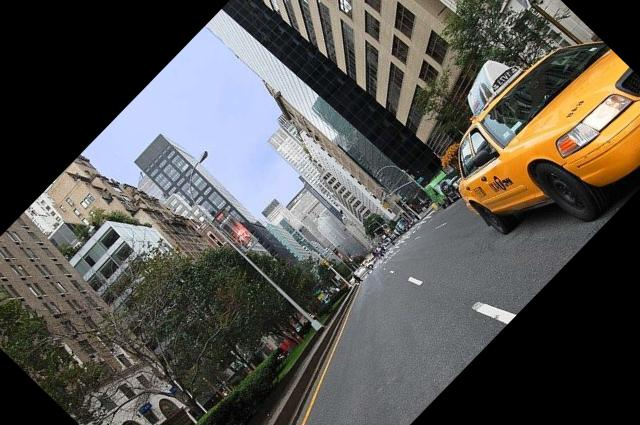taxi: (443, 38, 639, 239)
